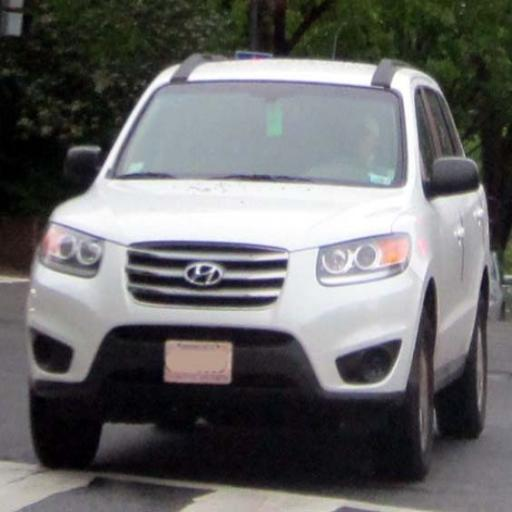normal: (33, 28, 483, 494)
